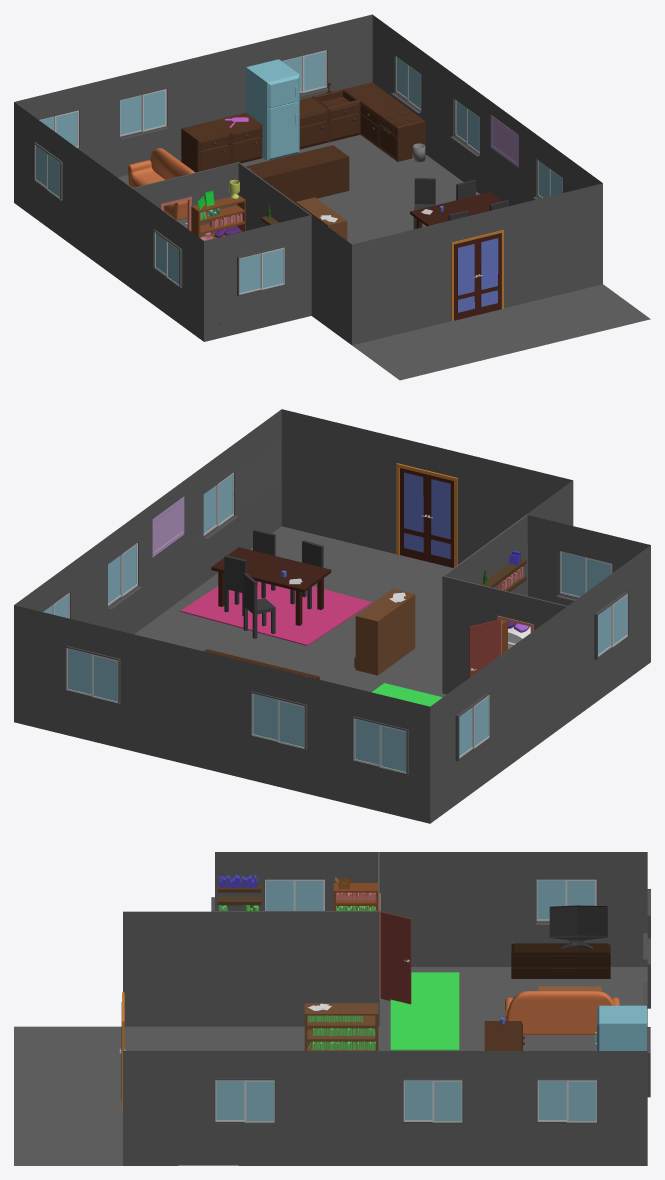
File: parter.fbx
3 renders of one model, top to bottom at view 1: azimuth 30°, elevation 25°; view 2: azimuth 150°, elevation 25°; view 3: azimuth 270°, elevation 25°, orthographic. The views are drawn at different scales.
Visible parts, largest first — view 1: 1Walls.001, K_counter, K_Fridge, Door.003, L_Couch, Door.004, D_Table, K_library.001, O_table.001, Window.R.024, Window.R.023, Window.L.020 (+8 smaller); view 2: 1Walls.001, D_carpet, O_cupboard.001, D_Table, Door.004, Door.003, Door.011, O_table.001, Window.L.024, Window.L.022, Window.L.023, K_chair.004 (+19 smaller); view 3: 1Walls.001, C_carpet.001, L_Couch, L_cupboard, O_cupboard.001, Door.011, K_Fridge, L_TV, D_Books.001, Window.L.027, Window.L.026, Window.L.025 (+14 smaller).
Boxes of the visible parts, x1,y1,x2,y2 form: 1Walls.001: [14, 14, 650, 380]; K_counter: [181, 82, 425, 202]; K_Fridge: [246, 59, 299, 160]; Door.003: [454, 238, 478, 320]; L_Couch: [128, 148, 194, 219]; Door.004: [478, 233, 501, 314]; D_Table: [410, 192, 501, 228]; K_library.001: [191, 194, 245, 238]; O_table.001: [490, 115, 518, 167]; Window.R.024: [302, 50, 326, 92]; Window.R.023: [142, 89, 166, 131]; Window.L.020: [261, 247, 284, 289]; 1Walls.001: [14, 409, 650, 823]; D_carpet: [180, 581, 372, 645]; O_cupboard.001: [354, 588, 415, 675]; D_Table: [211, 547, 331, 625]; Door.004: [400, 468, 427, 561]; Door.003: [428, 475, 453, 567]; Door.011: [469, 619, 500, 677]; O_table.001: [152, 497, 184, 557]; Window.L.024: [91, 654, 119, 703]; Window.L.022: [379, 724, 407, 773]; Window.L.023: [277, 699, 304, 748]; K_chair.004: [243, 573, 275, 638]; 1Walls.001: [14, 852, 647, 1165]; C_carpet.001: [390, 972, 459, 1050]; L_Couch: [505, 990, 619, 1035]; L_cupboard: [511, 943, 610, 978]; O_cupboard.001: [304, 1003, 378, 1050]; Door.011: [380, 911, 411, 1004]; K_Fridge: [595, 1005, 646, 1050]; L_TV: [549, 905, 607, 949]; D_Books.001: [307, 1015, 375, 1050]; Window.L.027: [244, 1080, 274, 1122]; Window.L.026: [432, 1080, 462, 1122]; Window.L.025: [566, 1080, 596, 1122].
Size of the model in its own units: 1395 by 373 by 1859.
